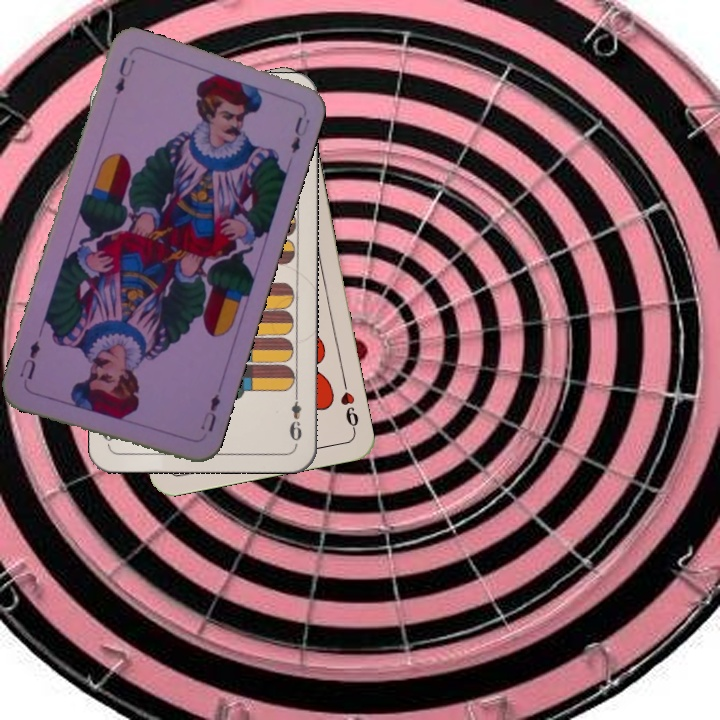E9: (286, 387, 305, 447)
EU: (196, 389, 223, 435), (111, 52, 138, 98)
H9: (336, 376, 362, 434)
